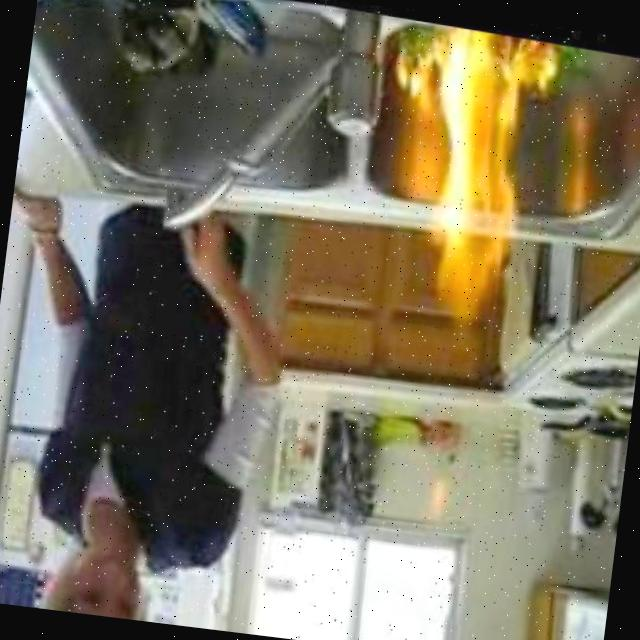fire: (370, 15, 566, 331)
